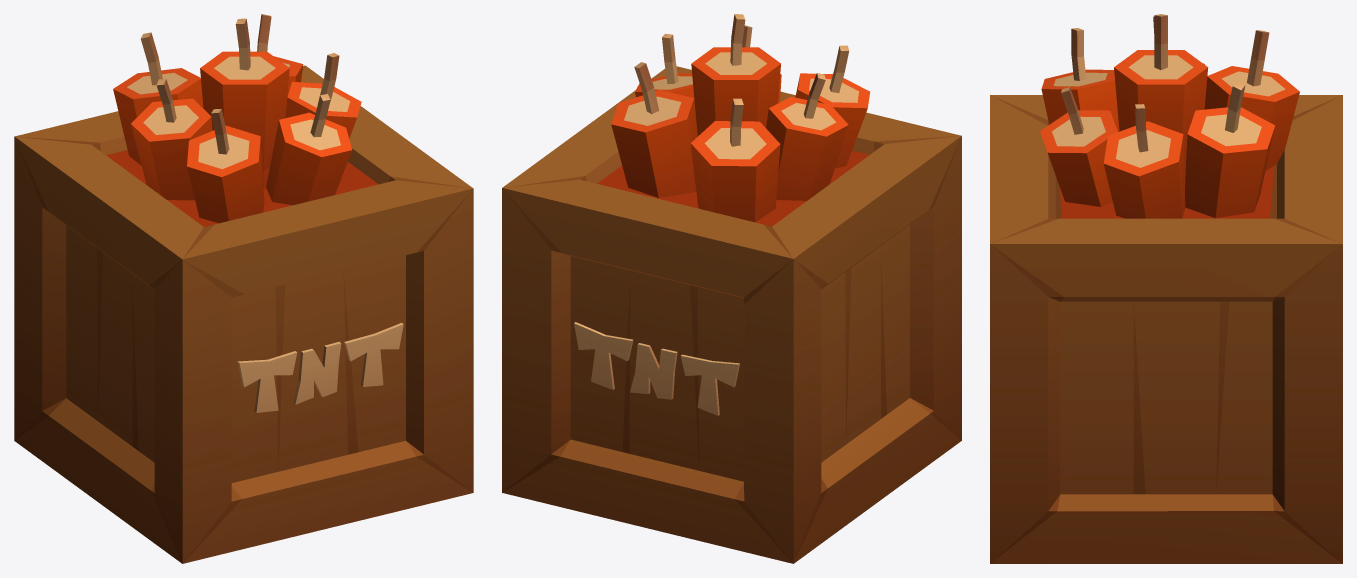
File: dynamite_open.glb
3 renders of one model, left to right at view 1: azimuth 30°, elevation 25°; view 2: azimuth 150°, elevation 25°; view 3: azimuth 270°, elevation 25°, orthographic. The views are drawn at different scales.
Parts seen in each view (by area): view 1: dynamite_open; view 2: dynamite_open; view 3: dynamite_open.
Part boxes in pixels (x1,y1,x2,y2): dynamite_open: (14,14,473,563); dynamite_open: (502,14,961,563); dynamite_open: (990,14,1342,563).
Bounding box in the file's own units: 0.5734 × 0.8477 × 0.5734.
1 material, 1 textured.
